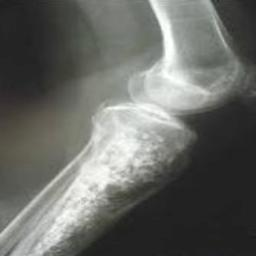cancer: (0, 103, 198, 256)
